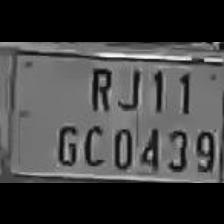0: (107, 122, 133, 168)
1: (170, 64, 196, 116), (144, 63, 168, 113)
3: (162, 122, 188, 172)
4: (135, 120, 161, 170)
9: (191, 123, 215, 173)
C: (80, 121, 106, 165)
G: (52, 119, 82, 165)
J: (116, 61, 142, 111)
R: (84, 60, 114, 113)
